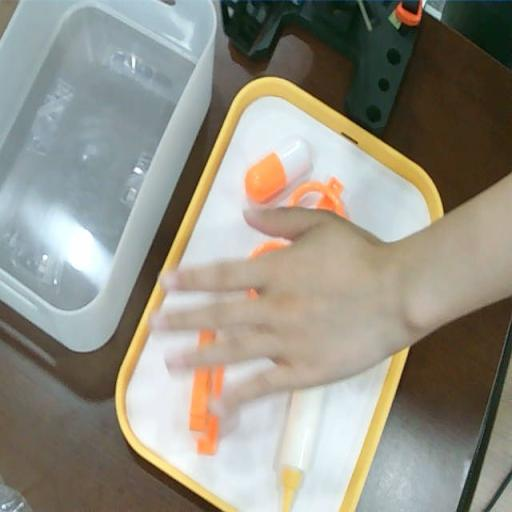hospital: (158, 204, 420, 392)
